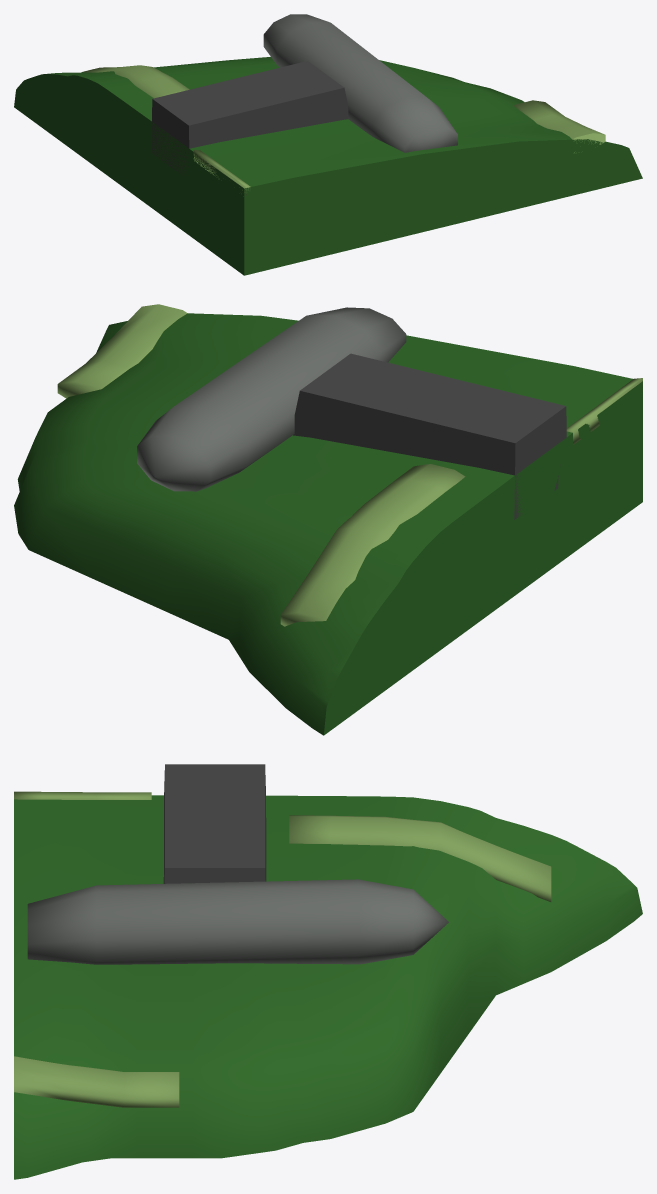
Rendered from newshj-159.glb.
3 views of the same model, one above another, from view 1: azimuth 30°, elevation 25°; view 2: azimuth 150°, elevation 25°; view 3: azimuth 270°, elevation 25° (orthographic). The views are drawn at different scales.
Visible parts, largest first — view 1: newshj-159; view 2: newshj-159; view 3: newshj-159.
Boxes of the visible parts, <box> form: newshj-159: <box>14,14,642,275</box>; newshj-159: <box>14,304,642,735</box>; newshj-159: <box>14,764,642,1179</box>.
Size of the model in its own units: 1.9 by 0.52 by 1.9.
